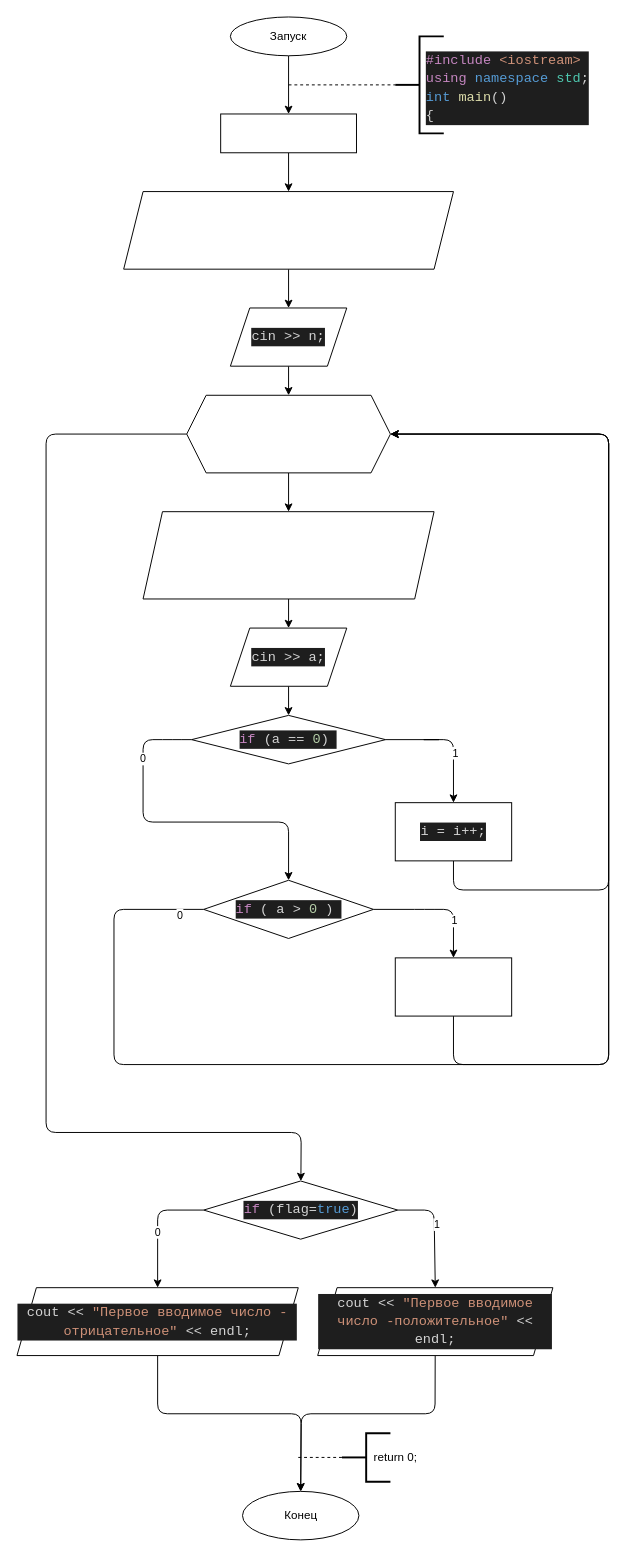
Some shapes in this 633 by 1557 pixel diagram are drawn without their labels. The centre of each missing label's shape, as x and y in pixels:
bool flag = false ;: pixel 288 133
cout << "Введите длину последовательности: " << endl;: pixel 288 230
cout << "Введите число: " << endl;: pixel 288 555
flag = true: pixel 453 986
while ( i <= n && !flag): pixel 288 433
